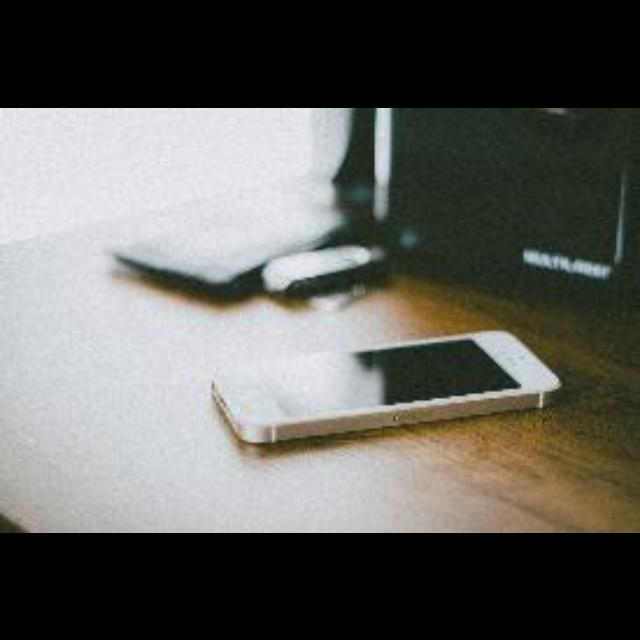Phone: (208, 331, 564, 442)
